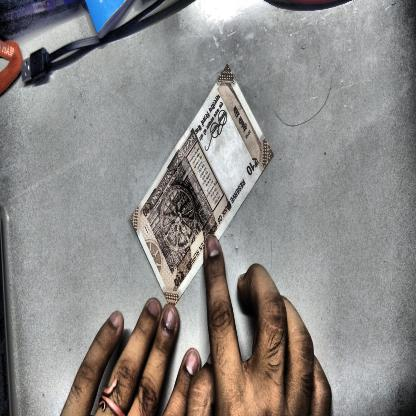Rs10: (243, 151, 262, 181), (140, 195, 157, 223)
